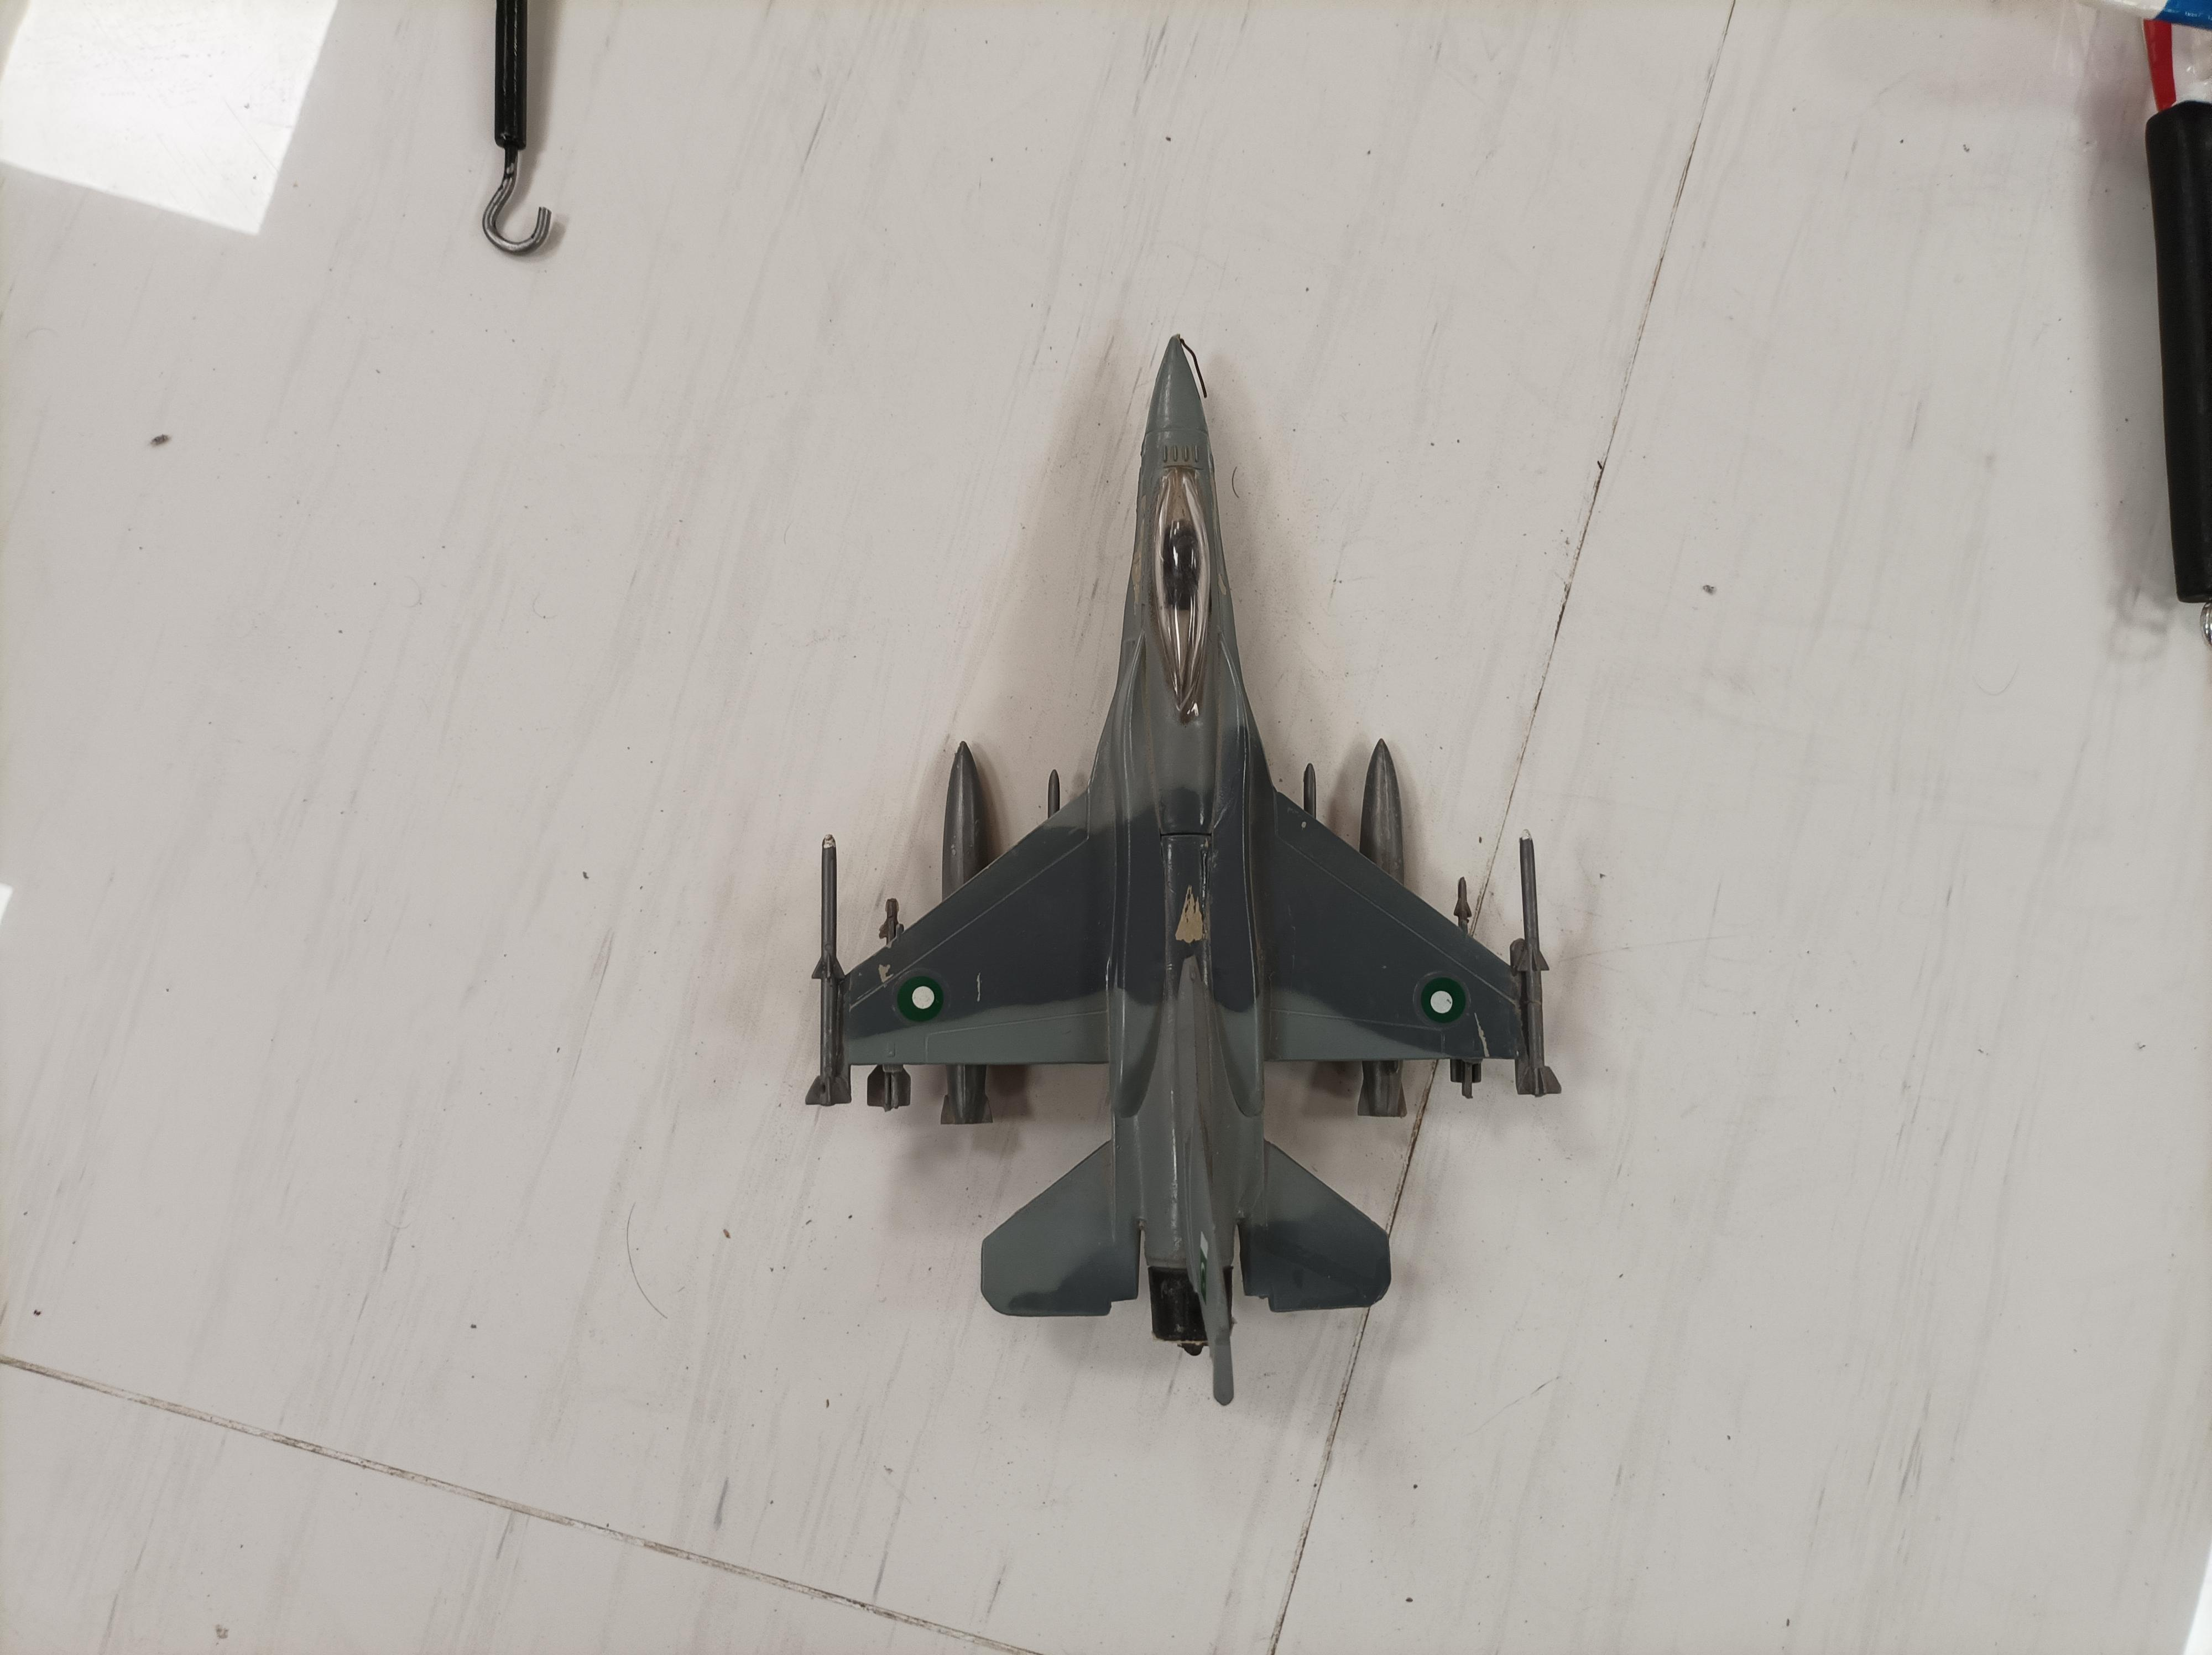Airplane: (768, 323, 1595, 1419)
